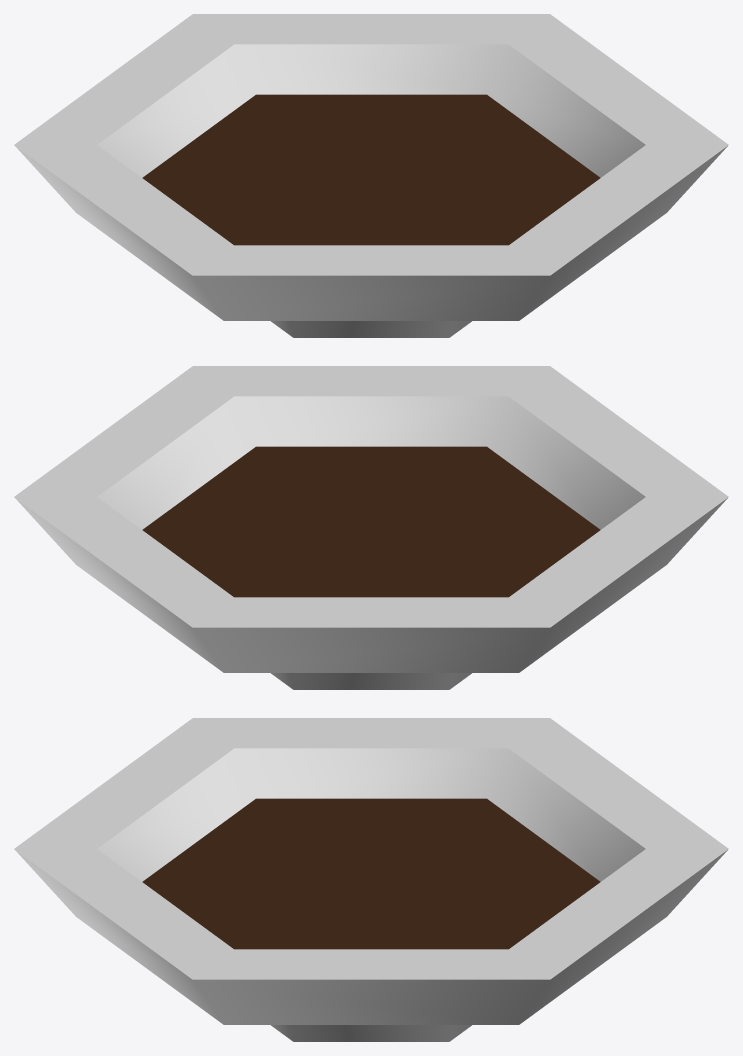
File: Soy.glb
3 renders of one model, top to bottom at view 1: azimuth 30°, elevation 25°; view 2: azimuth 150°, elevation 25°; view 3: azimuth 270°, elevation 25°, orthographic.
Visible parts, largest first — view 1: Soy; view 2: Soy; view 3: Soy.
Part boxes in pixels (x1,y1,x2,y2): Soy: [14, 14, 728, 337]; Soy: [14, 366, 728, 689]; Soy: [14, 718, 728, 1041].
Size of the model in its own units: 0.0735 by 0.0178 by 0.0848.
